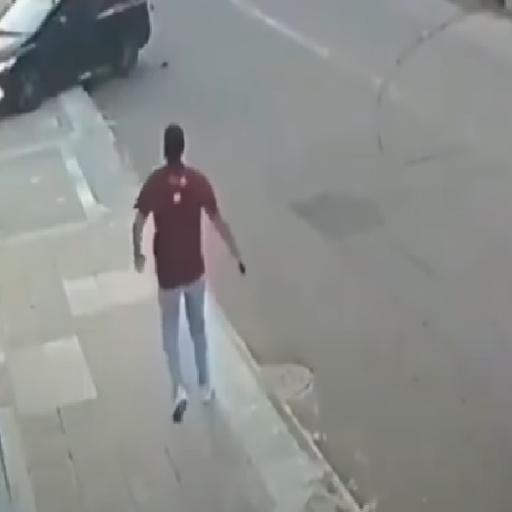Humans: (118, 92, 251, 433)
